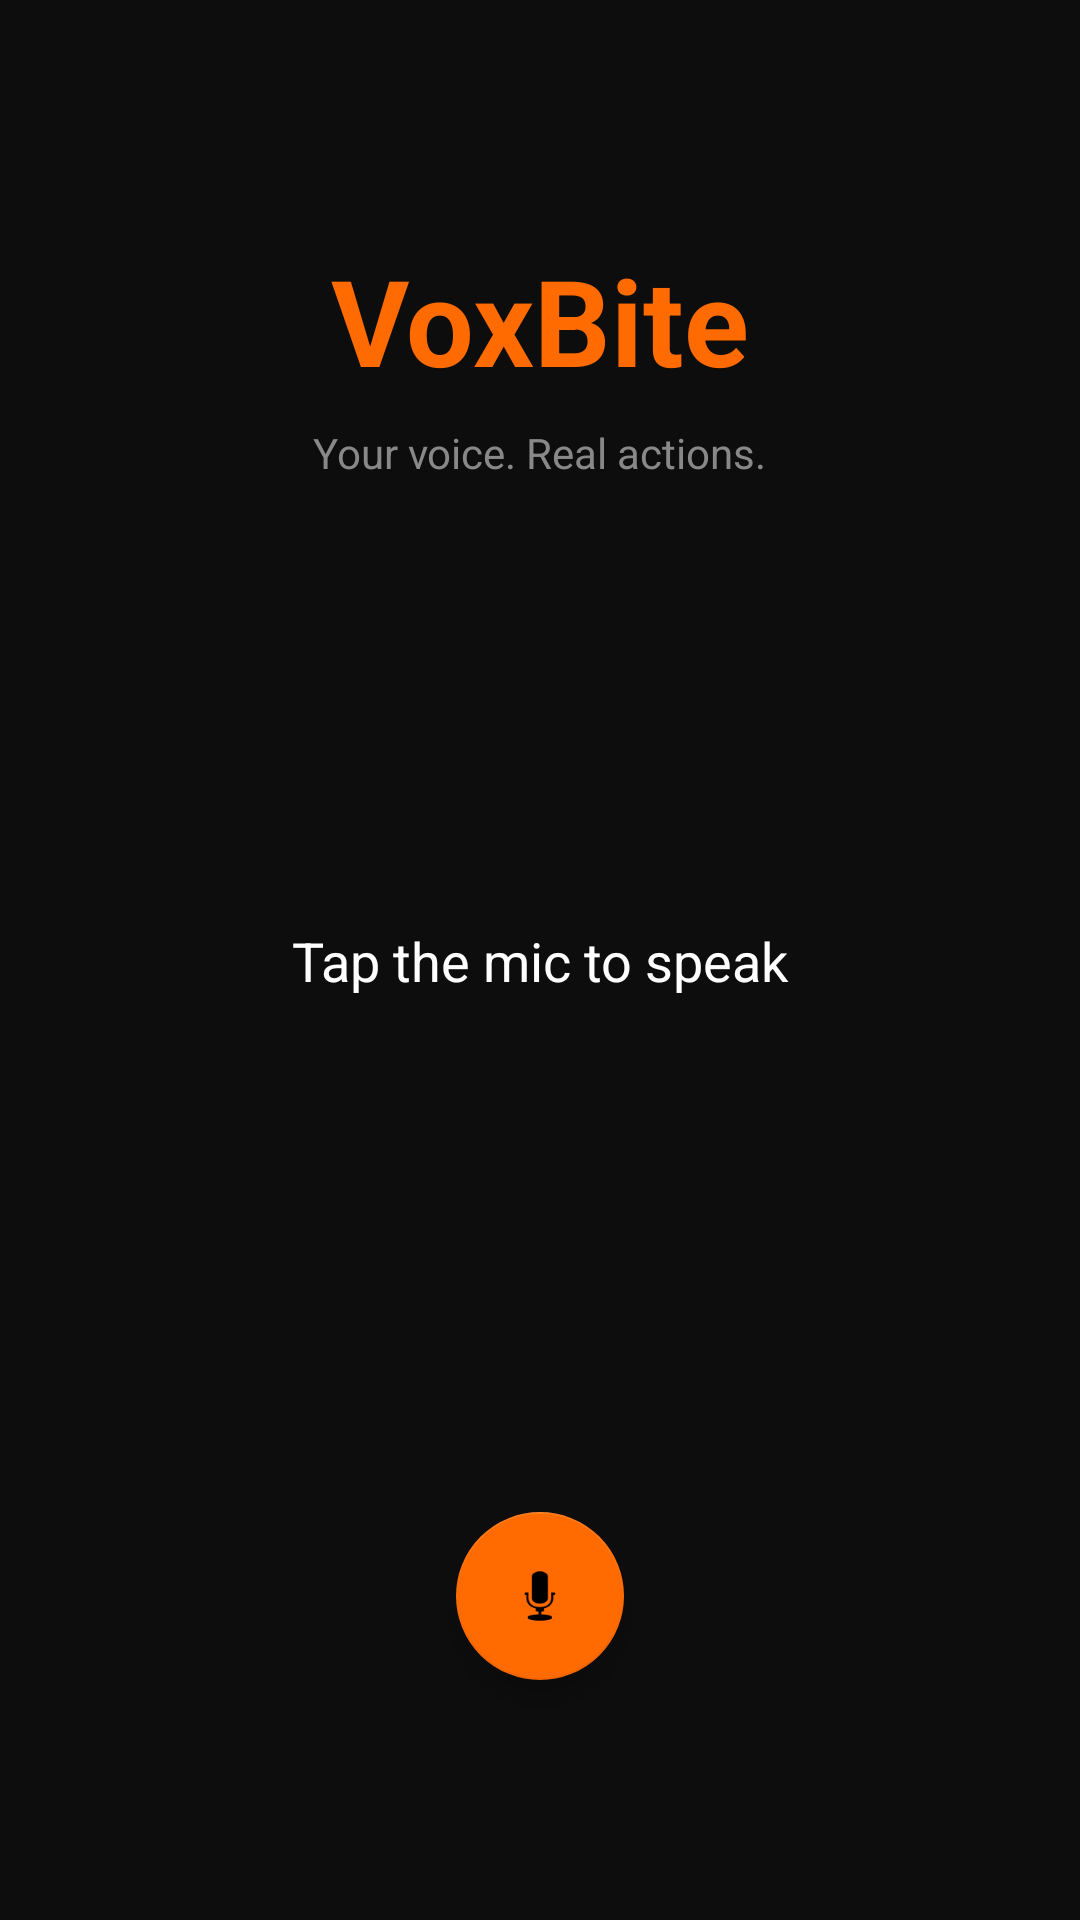

Named icons in this screenshot (1080 × 1920) and their bounding boxes, (x1, y1, x2, y2):
speak now: (456, 1512, 624, 1680)
